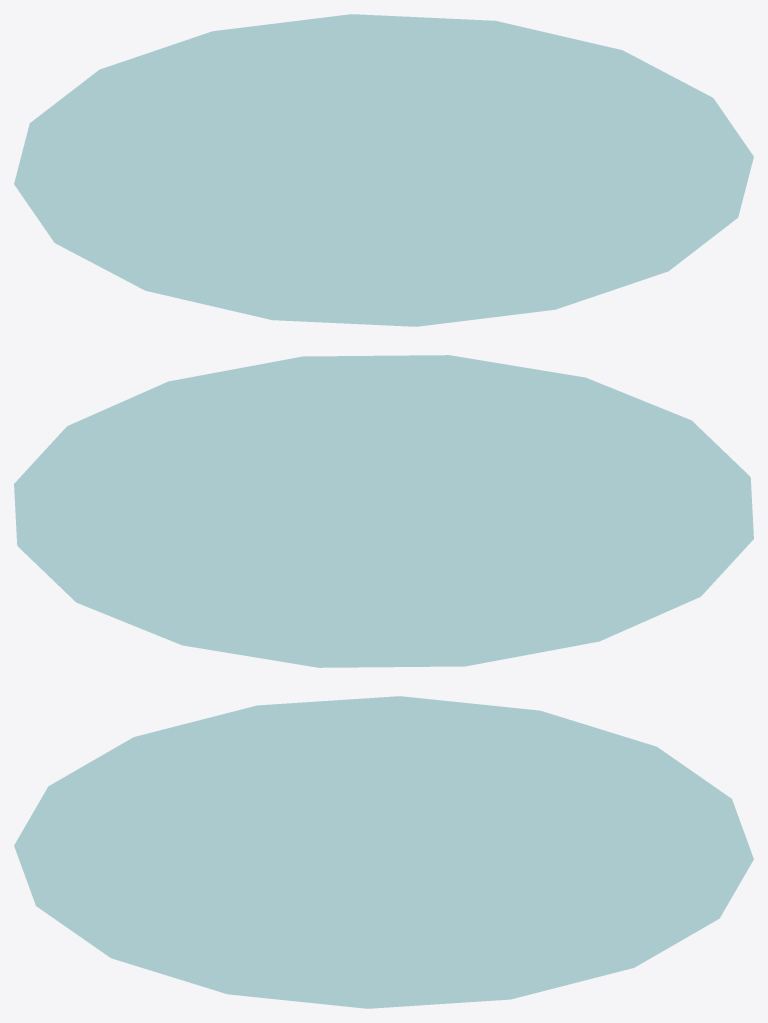
File: Water_WaterBucket.fbx
3 views of the same model, one above another, from view 1: azimuth 30°, elevation 25°; view 2: azimuth 150°, elevation 25°; view 3: azimuth 270°, elevation 25° (orthographic).
Visible parts, largest first — view 1: WaterInWaterBucket_Geo; view 2: WaterInWaterBucket_Geo; view 3: WaterInWaterBucket_Geo.
Part boxes in pixels (box(x1,y1,x2,y2)): WaterInWaterBucket_Geo: box(14, 14, 753, 326); WaterInWaterBucket_Geo: box(14, 355, 753, 667); WaterInWaterBucket_Geo: box(14, 696, 753, 1008).
Bounding box in the file's own units: 304 × 9.03e-05 × 304.
